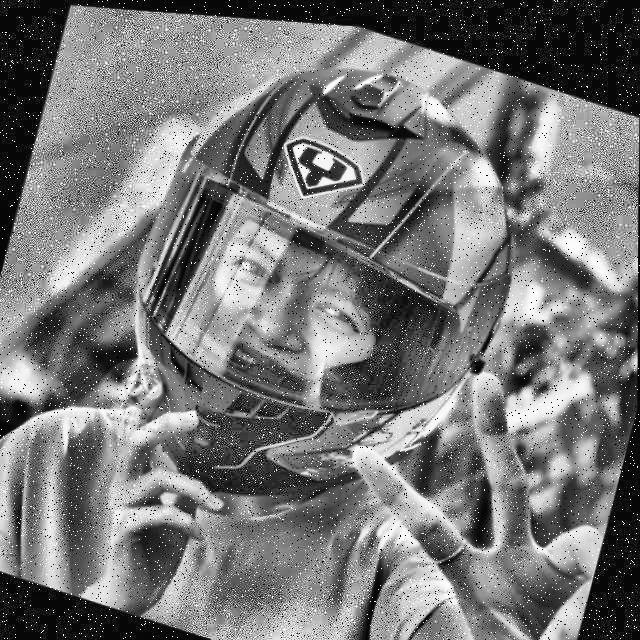Helmet: (76, 5, 567, 580)
